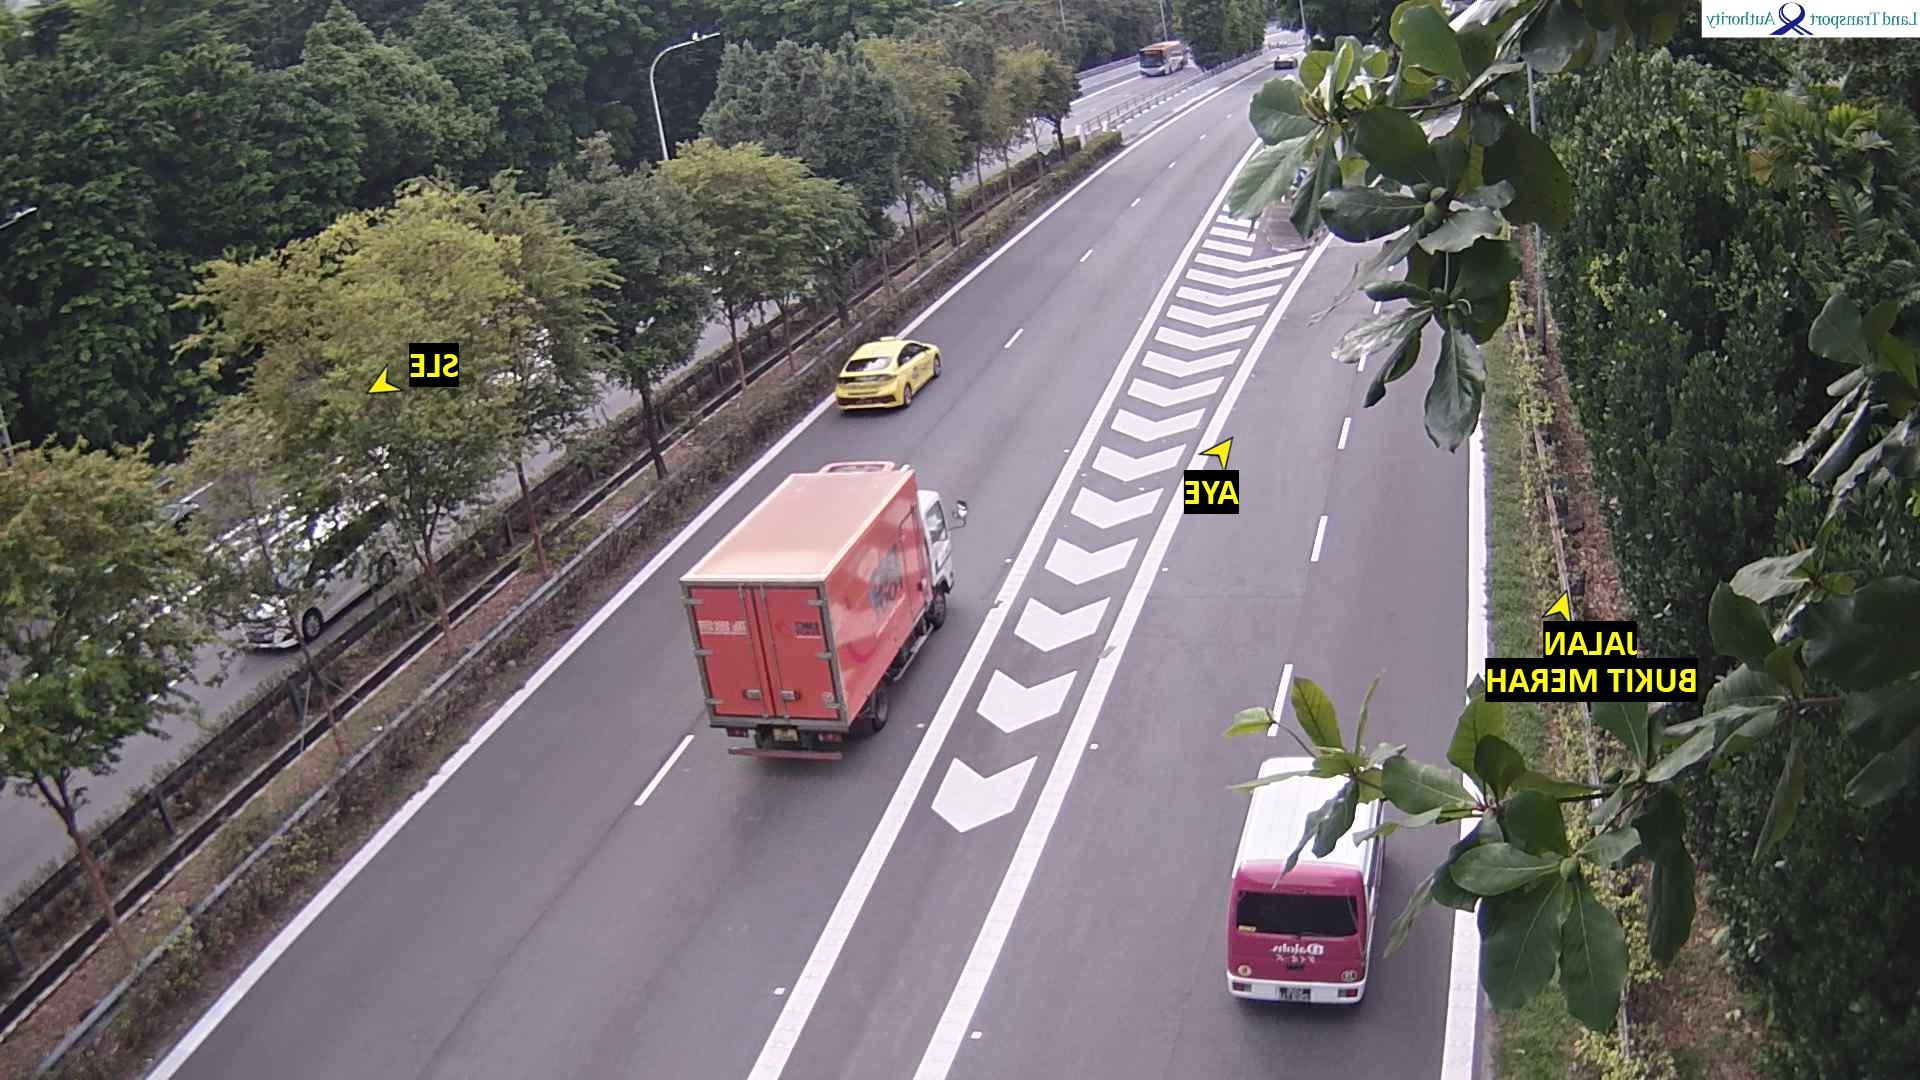bus: (1139, 40, 1188, 76)
cars: (835, 335, 943, 414), (1164, 40, 1189, 73), (1274, 51, 1298, 69)
trucks: (678, 458, 965, 762), (1226, 752, 1389, 1007), (207, 487, 409, 650)
